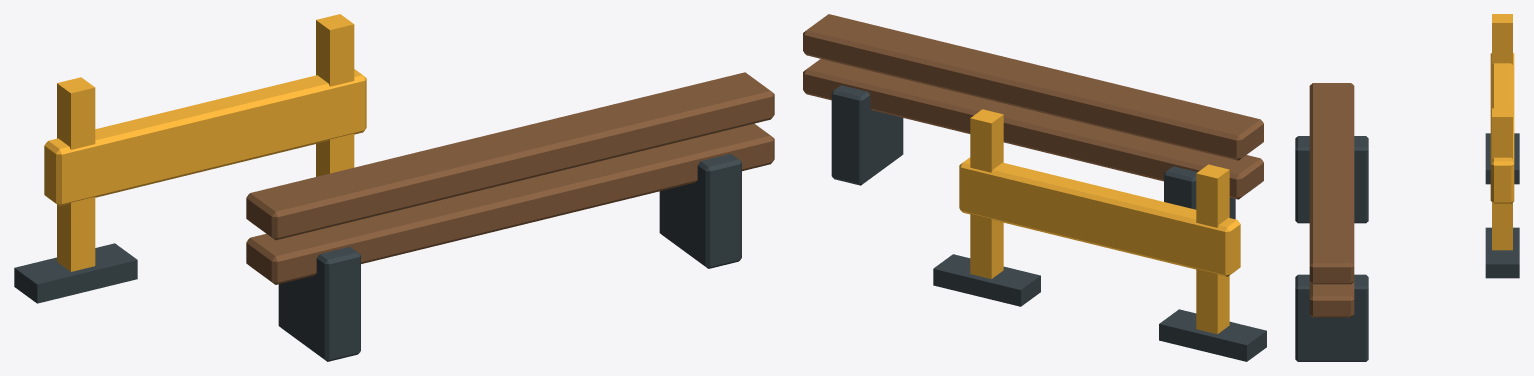
File: salmon_creek_field_kit.glb
3 renders of one model, left to right at view 1: azimuth 30°, elevation 25°; view 2: azimuth 150°, elevation 25°; view 3: azimuth 270°, elevation 25°, orthographic. The views are drawn at different scales.
Visible parts, largest first — view 1: Bench_Slat_1, Bench_Slat_0, Barrier_Board, Bench_Leg_R, Bench_Leg_L, Barrier_Post_-2.1, Barrier_Foot_-2.1, Barrier_Post_-0.4; view 2: Bench_Slat_1, Barrier_Board, Bench_Slat_0, Bench_Leg_R, Barrier_Post_-2.1, Barrier_Post_-0.4, Barrier_Foot_-2.1, Barrier_Foot_-0.4, Bench_Leg_L; view 3: Bench_Slat_1, Bench_Leg_R, Bench_Leg_L, Barrier_Board, Barrier_Post_-0.4, Bench_Slat_0, Barrier_Foot_-0.4, Barrier_Post_-2.1, Barrier_Foot_-2.1.
Part boxes in pixels (x1=…): Bench_Slat_1: x1=246, y1=72, x2=774, y2=240; Bench_Slat_0: x1=246, y1=123, x2=774, y2=284; Barrier_Board: x1=44, y1=69, x2=366, y2=206; Bench_Leg_R: x1=659, y1=154, x2=741, y2=268; Bench_Leg_L: x1=278, y1=247, x2=360, y2=361; Barrier_Post_-2.1: x1=57, y1=77, x2=95, y2=271; Barrier_Foot_-2.1: x1=14, y1=243, x2=137, y2=303; Barrier_Post_-0.4: x1=316, y1=14, x2=354, y2=176; Bench_Slat_1: x1=803, y1=14, x2=1263, y2=160; Barrier_Board: x1=959, y1=157, x2=1240, y2=276; Bench_Slat_0: x1=803, y1=59, x2=1263, y2=199; Bench_Leg_R: x1=831, y1=85, x2=903, y2=185; Barrier_Post_-2.1: x1=1196, y1=164, x2=1229, y2=334; Barrier_Post_-0.4: x1=970, y1=109, x2=1003, y2=278; Barrier_Foot_-2.1: x1=1159, y1=309, x2=1266, y2=361; Barrier_Foot_-0.4: x1=933, y1=254, x2=1040, y2=306; Bench_Leg_L: x1=1164, y1=166, x2=1235, y2=219; Bench_Slat_1: x1=1309, y1=83, x2=1354, y2=284; Bench_Leg_R: x1=1295, y1=274, x2=1368, y2=361; Bench_Leg_L: x1=1295, y1=136, x2=1368, y2=223; Barrier_Board: x1=1490, y1=53, x2=1514, y2=203; Barrier_Post_-0.4: x1=1492, y1=108, x2=1512, y2=250; Bench_Slat_0: x1=1309, y1=282, x2=1354, y2=317; Barrier_Foot_-0.4: x1=1485, y1=227, x2=1519, y2=278; Barrier_Post_-2.1: x1=1492, y1=14, x2=1512, y2=64; Barrier_Foot_-2.1: x1=1485, y1=133, x2=1519, y2=184.
Size of what is drawn, in the model's own units: 4.08 by 1.28 by 1.71.
